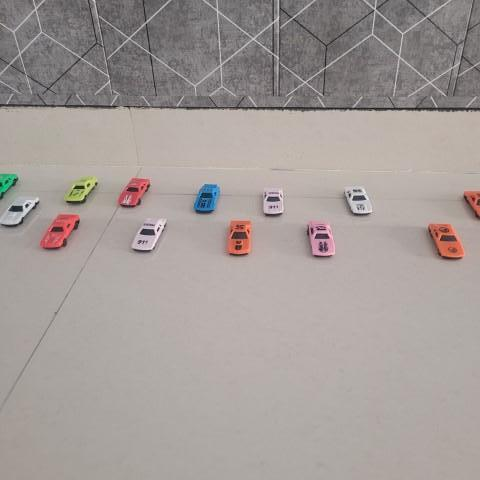car: (425, 220, 467, 261), (38, 212, 82, 251), (303, 217, 340, 262), (131, 215, 171, 252), (341, 182, 377, 218), (225, 216, 255, 257), (63, 173, 102, 204), (116, 176, 154, 207), (192, 182, 223, 215), (260, 184, 287, 220)
